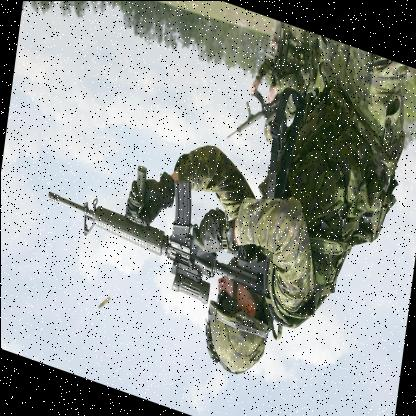rifle: (20, 170, 256, 352)
